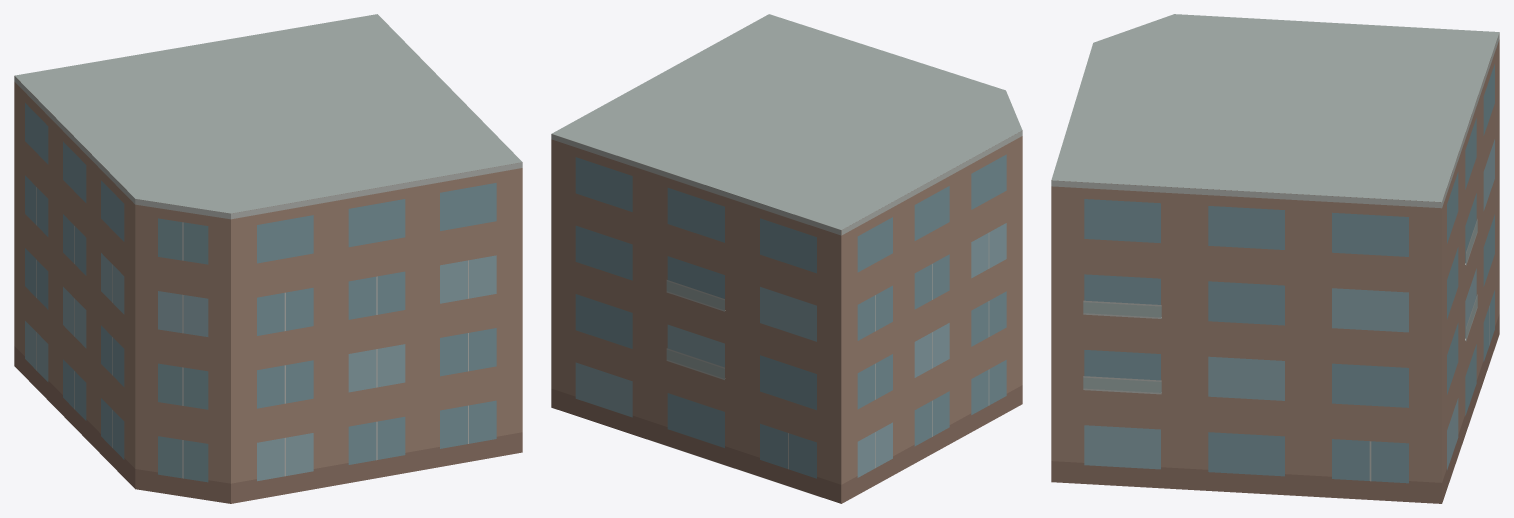
The model's file is residential-1126cad4-5caf-4773-853c-3b529c215bb0.glb.
3 renders of one model, left to right at view 1: azimuth 30°, elevation 25°; view 2: azimuth 150°, elevation 25°; view 3: azimuth 270°, elevation 25°, orthographic. The views are drawn at different scales.
Visible parts, largest first — view 1: residential-1126cad4-5caf-4773-853c-3b529c215bb0.tmp; view 2: residential-1126cad4-5caf-4773-853c-3b529c215bb0.tmp; view 3: residential-1126cad4-5caf-4773-853c-3b529c215bb0.tmp.
Boxes of the visible parts, x1=… form: residential-1126cad4-5caf-4773-853c-3b529c215bb0.tmp: x1=14, y1=14, x2=522, y2=503; residential-1126cad4-5caf-4773-853c-3b529c215bb0.tmp: x1=551, y1=14, x2=1022, y2=503; residential-1126cad4-5caf-4773-853c-3b529c215bb0.tmp: x1=1051, y1=14, x2=1499, y2=503.
Bounding box in the file's own units: 16.33 × 12.2 × 16.44.
